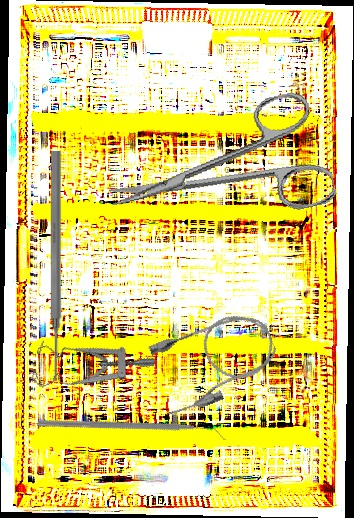Cannula: (142, 302, 286, 421)
Chopper: (36, 345, 226, 518)
Iris Scissors: (96, 87, 339, 251)
Pusher: (48, 151, 63, 381)
Speculum: (25, 317, 157, 423)
